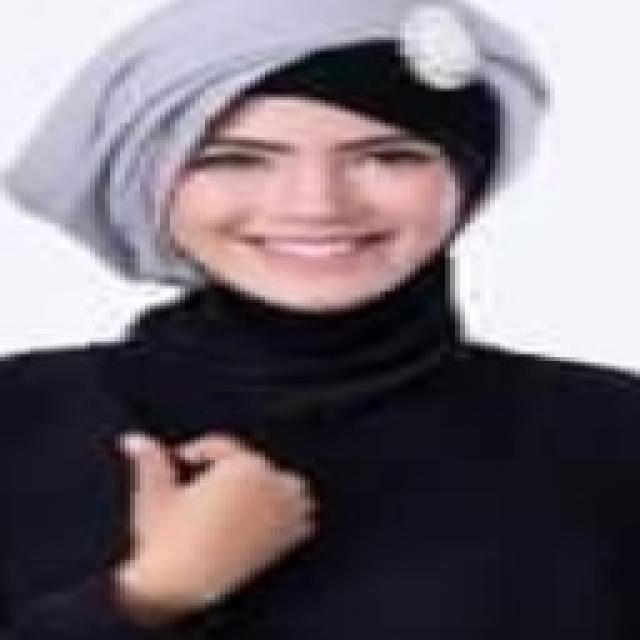head: (90, 22, 514, 322)
